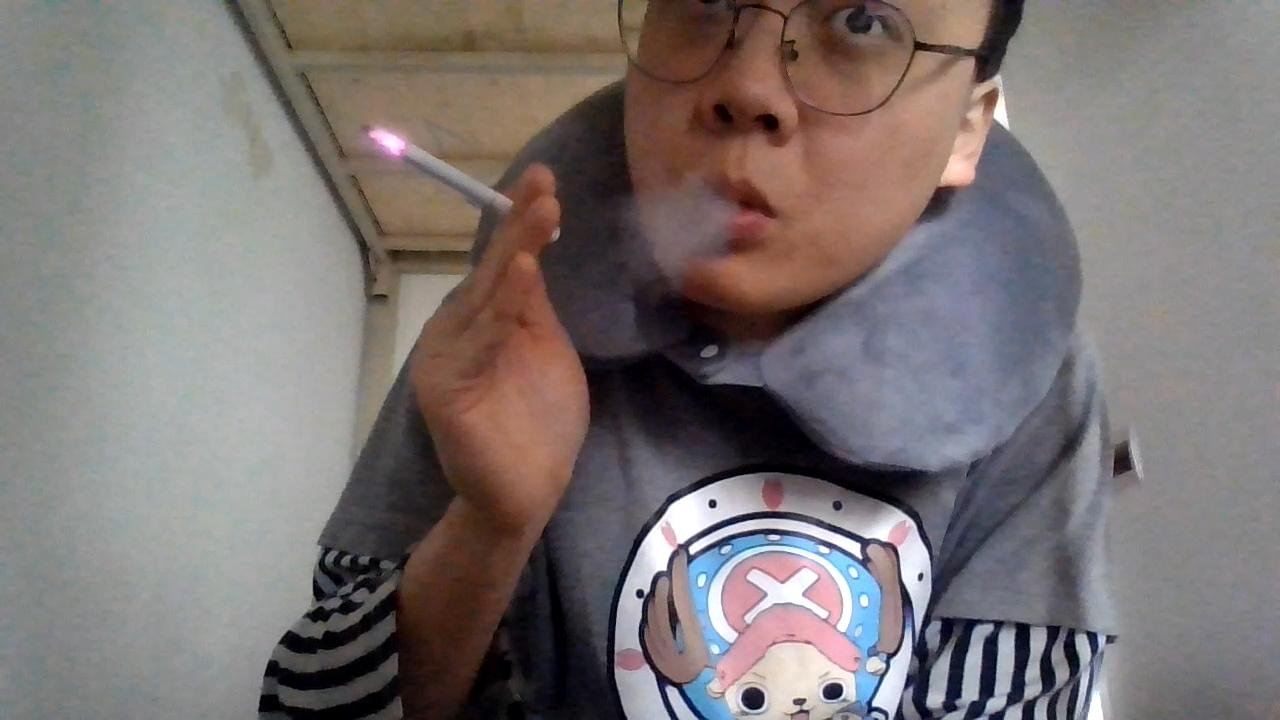yanwu: (616, 179, 745, 290)
